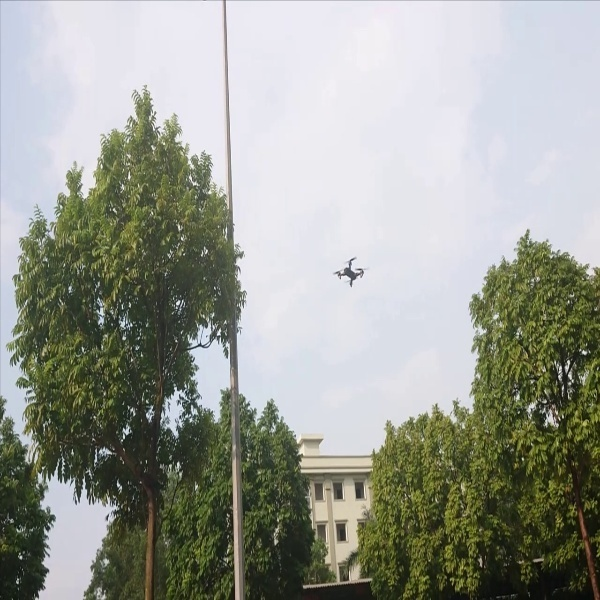drone: (325, 249, 373, 291)
